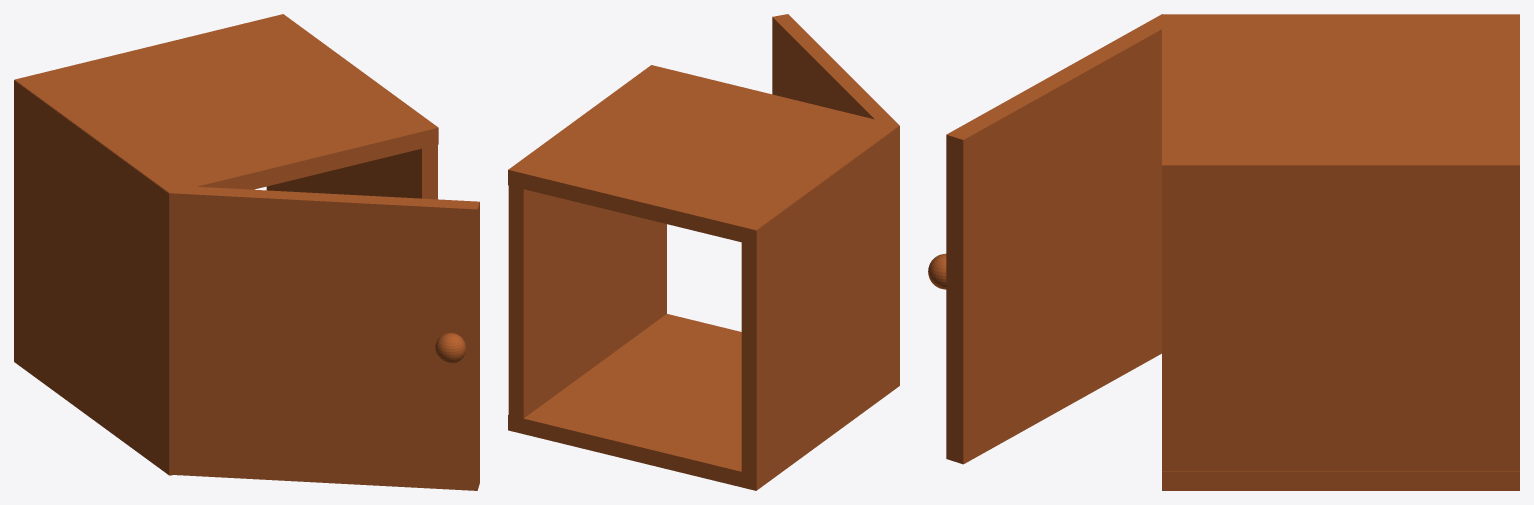
Rendered from Door.glb.
3 renders of one model, left to right at view 1: azimuth 30°, elevation 25°; view 2: azimuth 150°, elevation 25°; view 3: azimuth 270°, elevation 25°, orthographic. The views are drawn at different scales.
Parts seen in each view (by area): view 1: Cube.004, Cube.001, Cube.002, Cube.003, Sphere; view 2: Cube.002, Cube.001, Cube.003, Cube, Cube.004; view 3: Cube.003, Cube.004, Cube.001, Cube.
Part boxes in pixels (box(x1,y1,x2,y2)): Cube.004: box(169, 185, 479, 490); Cube.001: box(14, 14, 438, 192); Cube.002: box(14, 80, 170, 475); Cube.003: box(266, 145, 437, 199); Sphere: box(435, 333, 465, 363); Cube.002: box(741, 126, 899, 490); Cube.001: box(508, 65, 898, 245); Cube.003: box(508, 170, 666, 433); Cube: box(508, 314, 898, 490); Cube.004: box(772, 14, 899, 128); Cube.003: box(1162, 185, 1519, 471); Cube.004: box(946, 14, 1178, 464); Cube.001: box(1162, 14, 1519, 184); Cube: box(1162, 471, 1519, 490).
Bounding box in the file's own units: 1 × 1 × 1.65.
